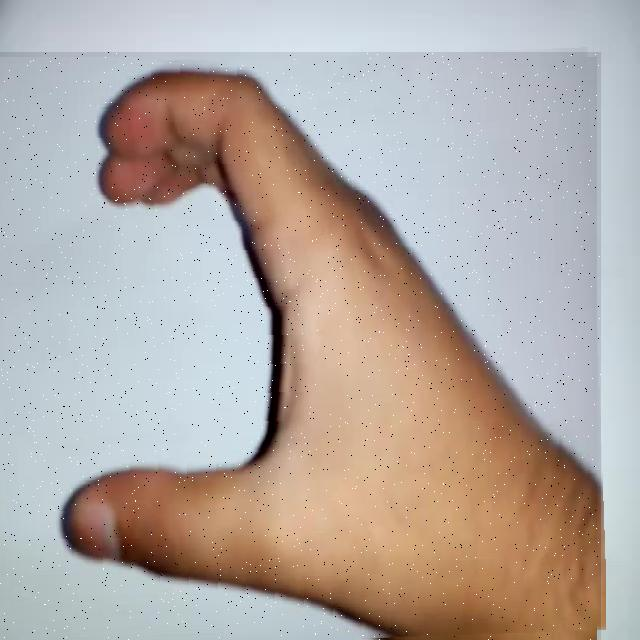C: (0, 52, 601, 640)
